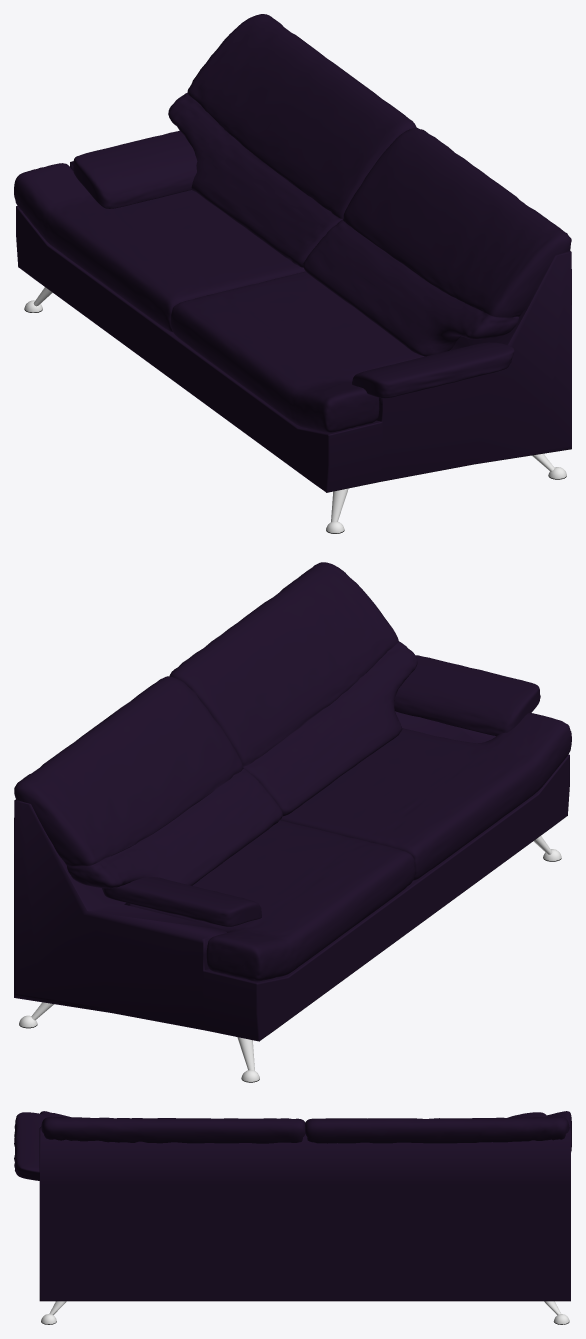
File: couch.fbx
3 renders of one model, top to bottom at view 1: azimuth 30°, elevation 25°; view 2: azimuth 150°, elevation 25°; view 3: azimuth 270°, elevation 25°, orthographic. The views are drawn at different scales.
Visible parts, largest first — view 1: espaldar sofa, sofa-cojin, sofa-base, sofa-brazos; view 2: espaldar sofa, sofa-base, sofa-cojin, sofa-brazos; view 3: sofa-base, espaldar sofa, sofa-brazos, sofa-cojin.
Part boxes in pixels (bbox=[...]): espaldar sofa: bbox=[168, 14, 571, 356]; sofa-cojin: bbox=[14, 163, 450, 432]; sofa-base: bbox=[16, 161, 571, 533]; sofa-brazos: bbox=[73, 130, 514, 398]; espaldar sofa: bbox=[14, 562, 417, 888]; sofa-base: bbox=[14, 711, 569, 1082]; sofa-cojin: bbox=[129, 713, 571, 981]; sofa-brazos: bbox=[102, 655, 540, 926]; sofa-base: bbox=[39, 1127, 570, 1324]; espaldar sofa: bbox=[41, 1117, 569, 1143]; sofa-brazos: bbox=[14, 1112, 546, 1180]; sofa-cojin: bbox=[40, 1111, 571, 1151].
Size of what is drawn, in the model's own units: 93.24 by 84.87 by 210.
